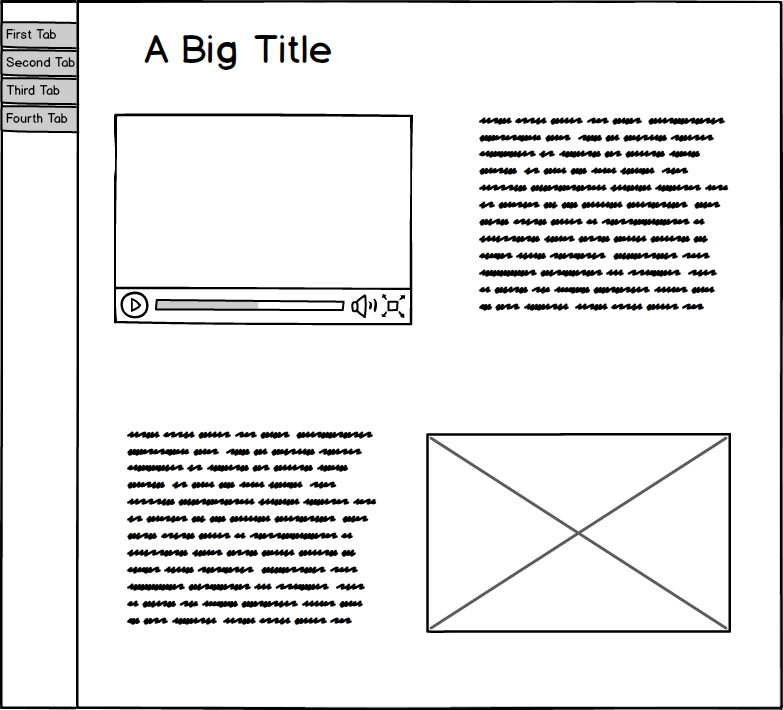h1: (137, 29, 336, 74)
image: (418, 426, 739, 639)
p: (122, 425, 384, 631), (472, 113, 737, 316)
sidebar: (1, 16, 84, 139)
video: (110, 108, 418, 331)
